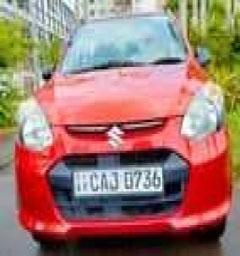car: (4, 8, 238, 243)
